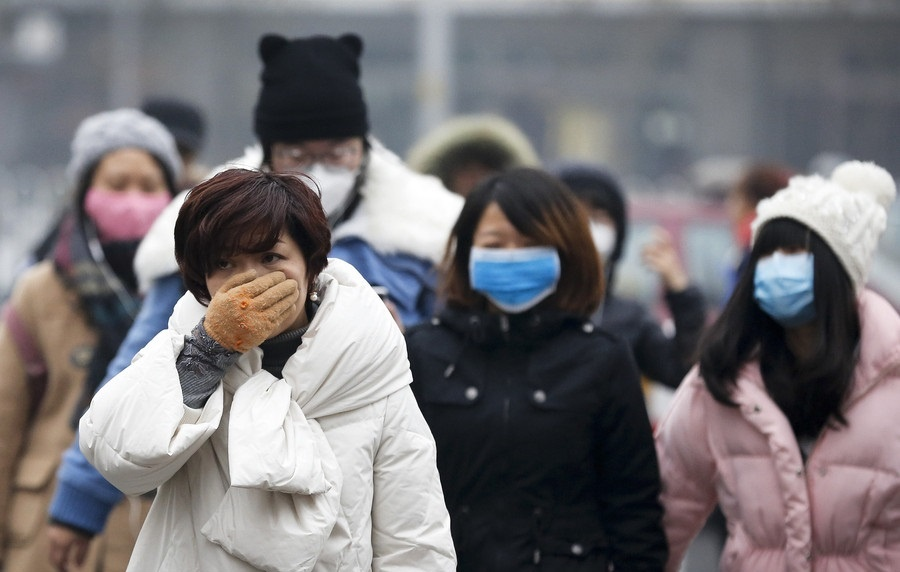Mask: (201, 234, 307, 340)
